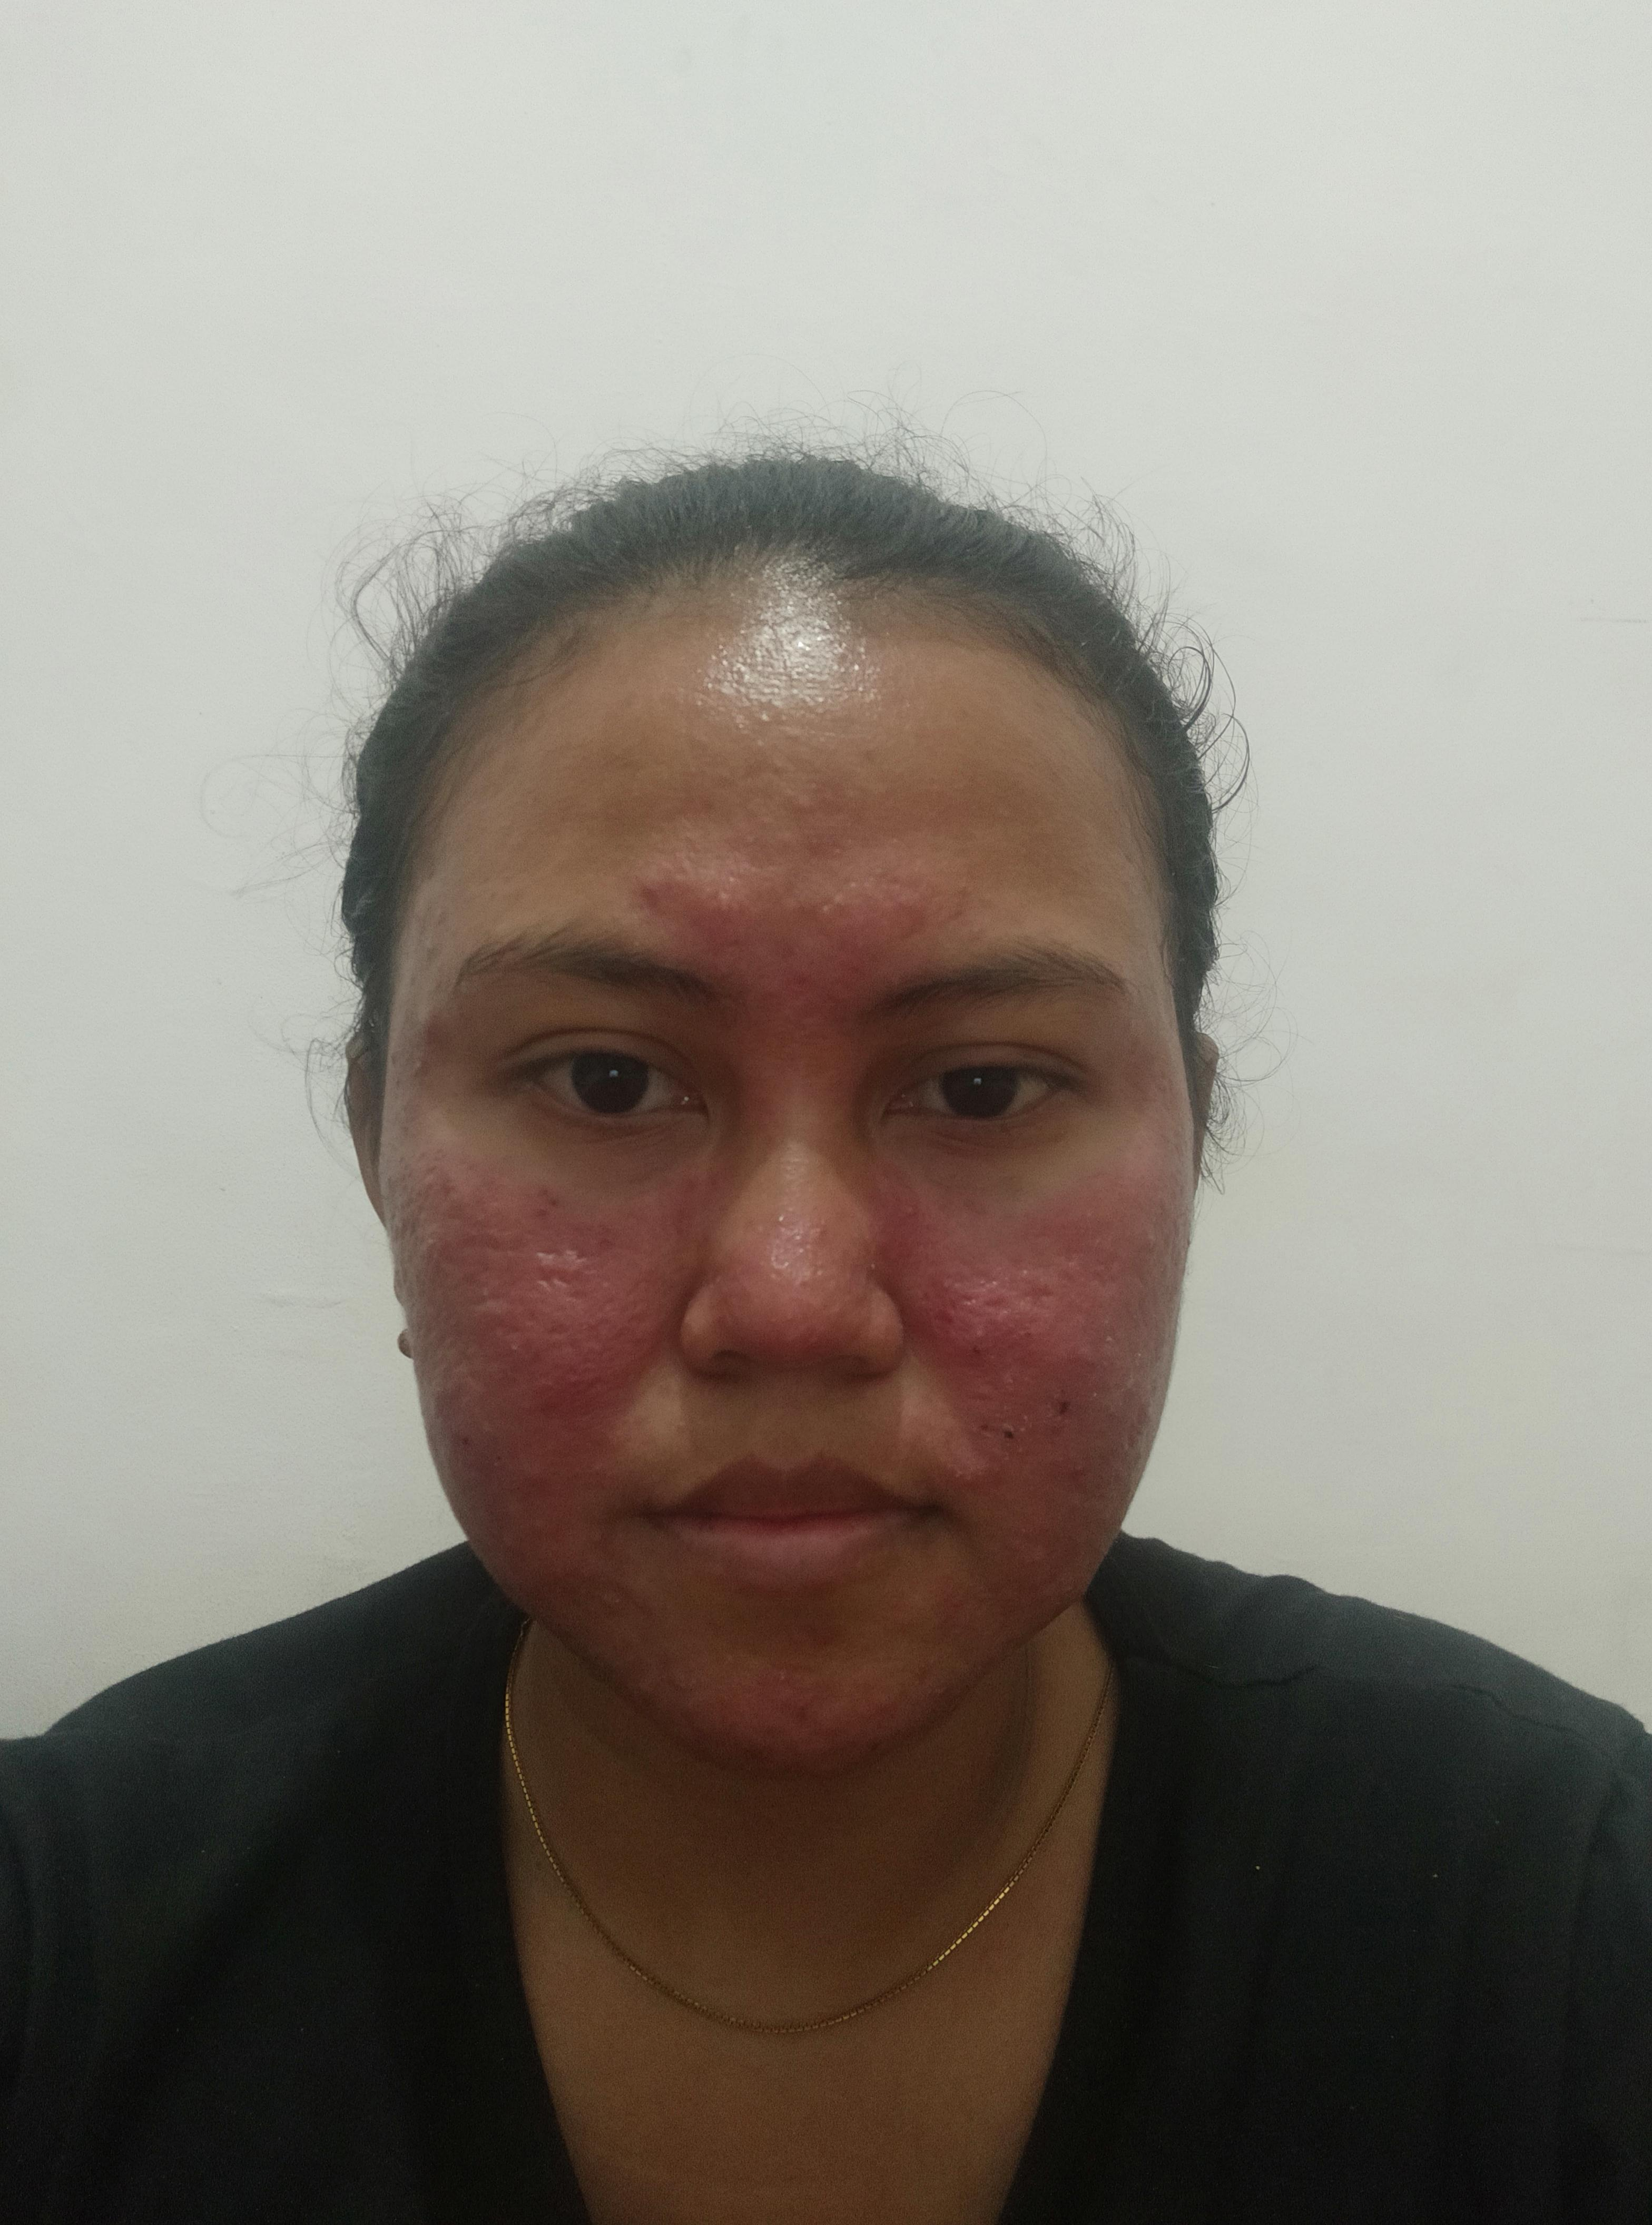Acne: (965, 1340, 1159, 1434), (1045, 1177, 1187, 1277), (921, 1265, 1055, 1361), (451, 1192, 515, 1345), (791, 883, 935, 951), (984, 1533, 1071, 1628), (866, 1651, 968, 1730), (522, 1302, 649, 1362), (753, 1663, 828, 1756), (519, 1234, 616, 1303), (675, 878, 760, 955), (510, 1357, 611, 1421), (755, 967, 845, 1038), (574, 1557, 661, 1626), (389, 1172, 442, 1283), (495, 1458, 557, 1539), (805, 1251, 878, 1319), (401, 996, 446, 1086), (873, 1172, 920, 1255), (425, 1345, 474, 1423), (718, 1246, 755, 1336), (659, 1166, 706, 1236), (947, 1449, 1005, 1503), (418, 890, 449, 968), (642, 1663, 694, 1699), (788, 784, 829, 823), (765, 1231, 795, 1284), (784, 1314, 828, 1349), (633, 868, 665, 915), (533, 1182, 564, 1218), (678, 1696, 711, 1729), (580, 1456, 606, 1491), (802, 1217, 836, 1236), (1067, 1460, 1097, 1480)
